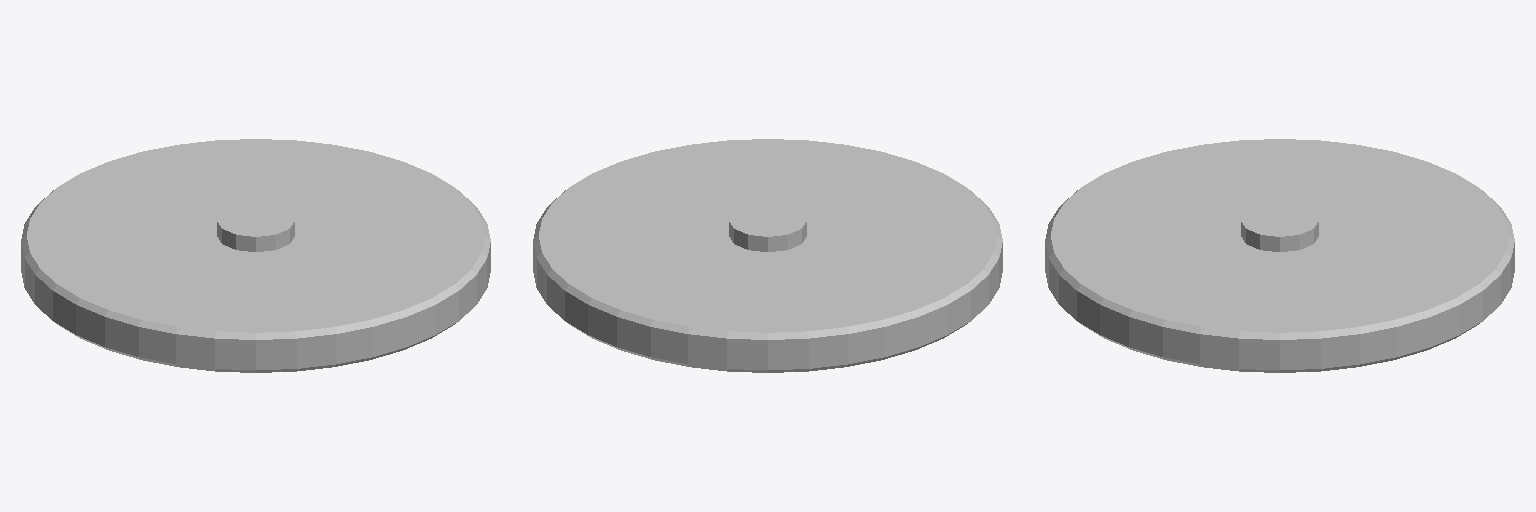
Rendered from block_spur_1_3.obj.
The picture shows the model from 3 angles: view 1: azimuth 30°, elevation 25°; view 2: azimuth 150°, elevation 25°; view 3: azimuth 270°, elevation 25°; orthographic projection.
Parts seen in each view (by area): view 1: Cylinder.001; view 2: Cylinder.001; view 3: Cylinder.001.
Part boxes in pixels (bbox=[...]): Cylinder.001: bbox=[21, 139, 490, 372]; Cylinder.001: bbox=[533, 139, 1002, 372]; Cylinder.001: bbox=[1045, 139, 1514, 372].
Size of the model in its own units: 0.6 by 0.1 by 0.6.